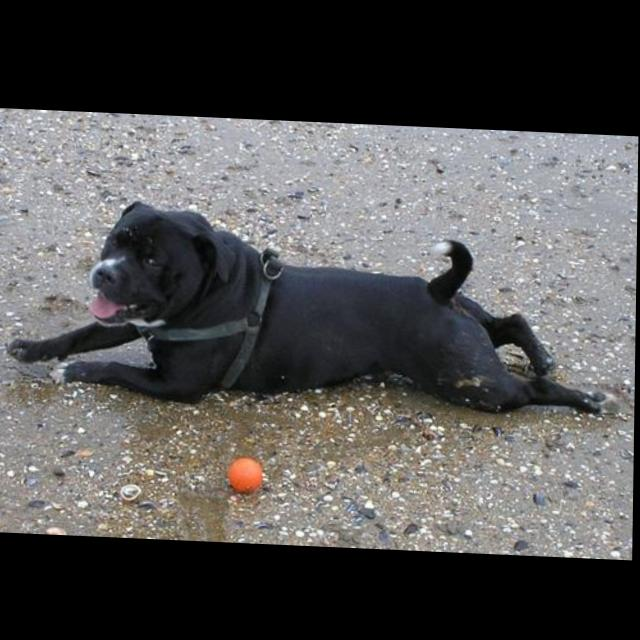staffford: (7, 195, 622, 417)
